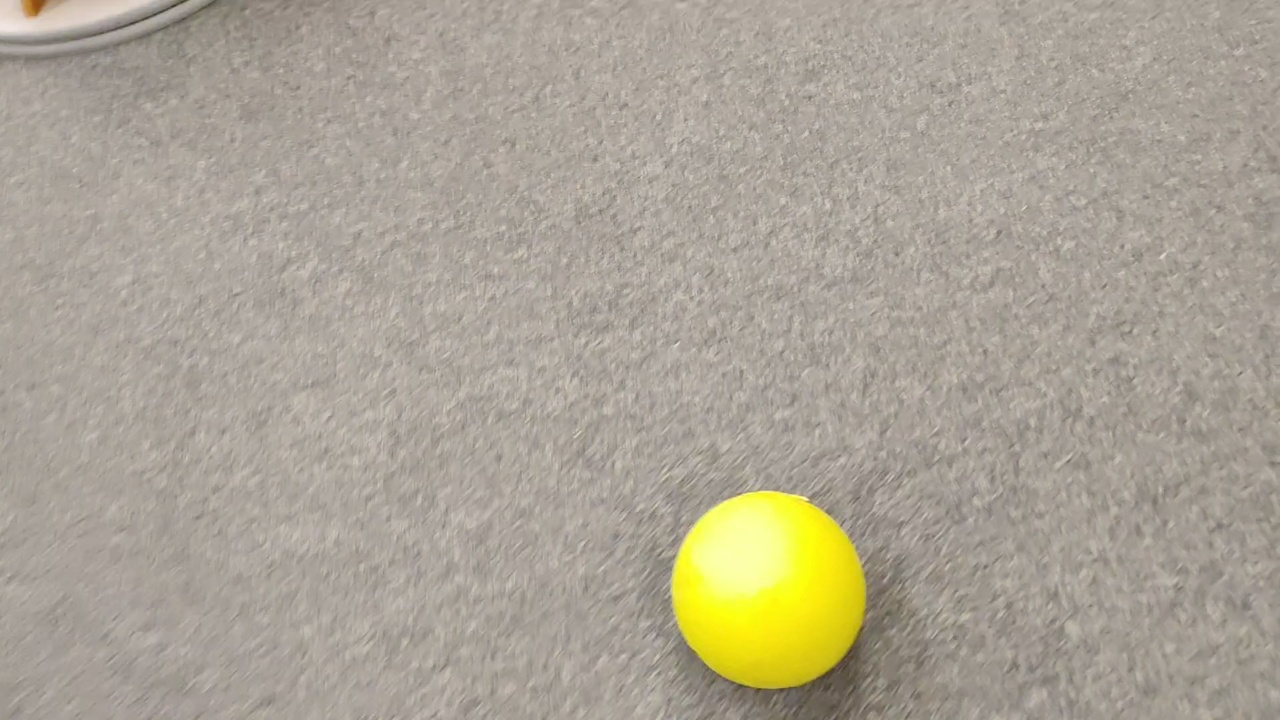Ball: (668, 488, 863, 690)
